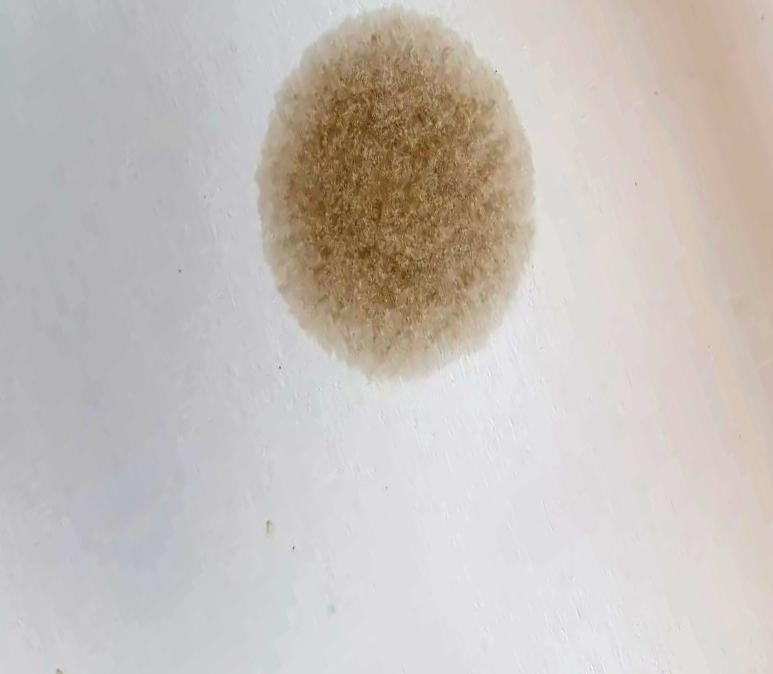stain: (257, 4, 542, 393)
